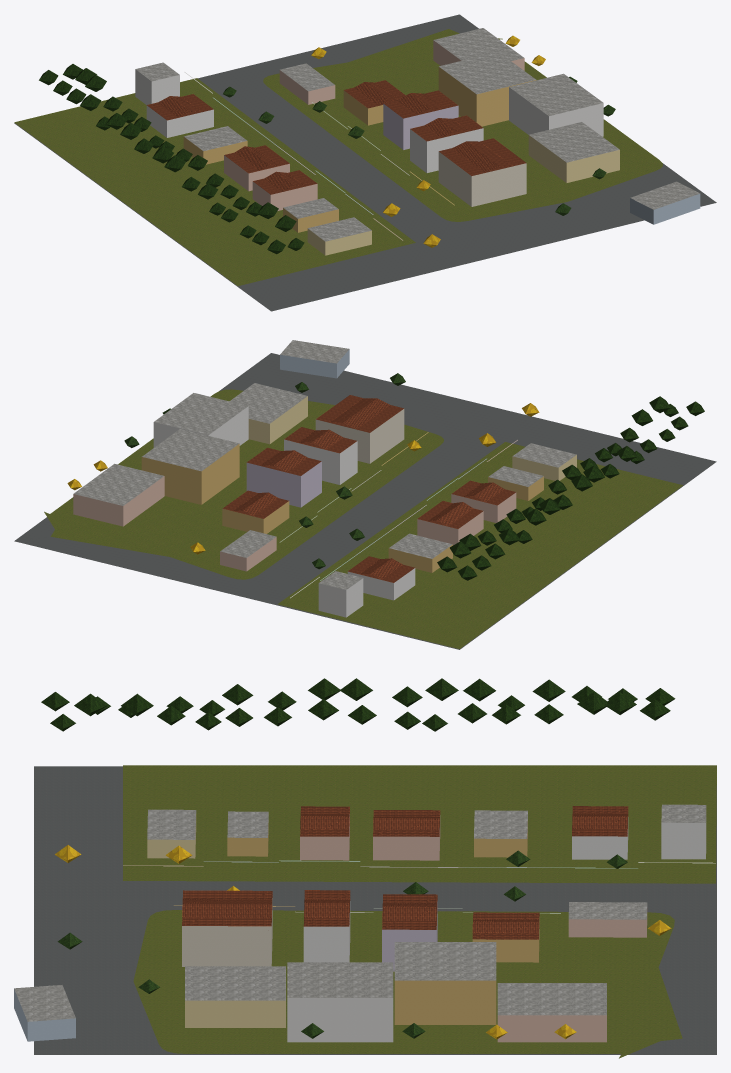
Rendered from cidade_S00_05_lod.gltf.
The picture shows the model from 3 angles, top to bottom: view 1: azimuth 30°, elevation 25°; view 2: azimuth 150°, elevation 25°; view 3: azimuth 270°, elevation 25°; orthographic projection. The views are drawn at different scales.
Parts seen in each view (by area): view 1: S00_05_Chao_LOD2, S00_05_Edificios_LOD1, S00_05_Silhueta_LOD2, S00_05_Vegetacao_LOD2; view 2: S00_05_Chao_LOD2, S00_05_Edificios_LOD1, S00_05_Silhueta_LOD2, S00_05_Vegetacao_LOD2; view 3: S00_05_Chao_LOD2, S00_05_Edificios_LOD1, S00_05_Silhueta_LOD2, S00_05_Vegetacao_LOD2.
Part boxes in pixels (bbox=[...]): S00_05_Chao_LOD2: bbox=[14, 14, 716, 311]; S00_05_Edificios_LOD1: bbox=[135, 28, 700, 255]; S00_05_Silhueta_LOD2: bbox=[146, 80, 526, 210]; S00_05_Vegetacao_LOD2: bbox=[39, 35, 615, 254]; S00_05_Chao_LOD2: bbox=[14, 353, 716, 649]; S00_05_Edificios_LOD1: bbox=[73, 340, 576, 617]; S00_05_Silhueta_LOD2: bbox=[222, 395, 516, 599]; S00_05_Vegetacao_LOD2: bbox=[67, 373, 704, 580]; S00_05_Chao_LOD2: bbox=[34, 765, 716, 1058]; S00_05_Edificios_LOD1: bbox=[14, 804, 715, 1042]; S00_05_Silhueta_LOD2: bbox=[182, 806, 628, 971]; S00_05_Vegetacao_LOD2: bbox=[41, 678, 675, 1039].
Size of the model in its own units: 102 by 15.81 by 103.
18 materials, 18 textured.
